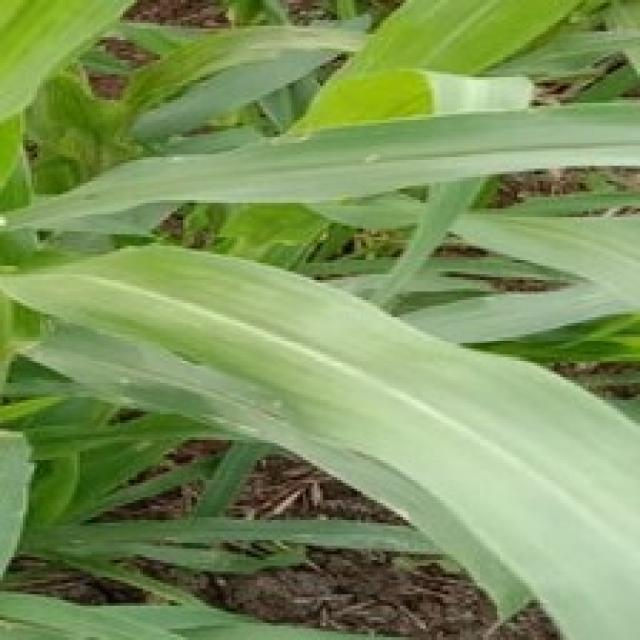Corn: (0, 0, 637, 637), (0, 92, 637, 237), (282, 0, 637, 134), (0, 0, 145, 134)
